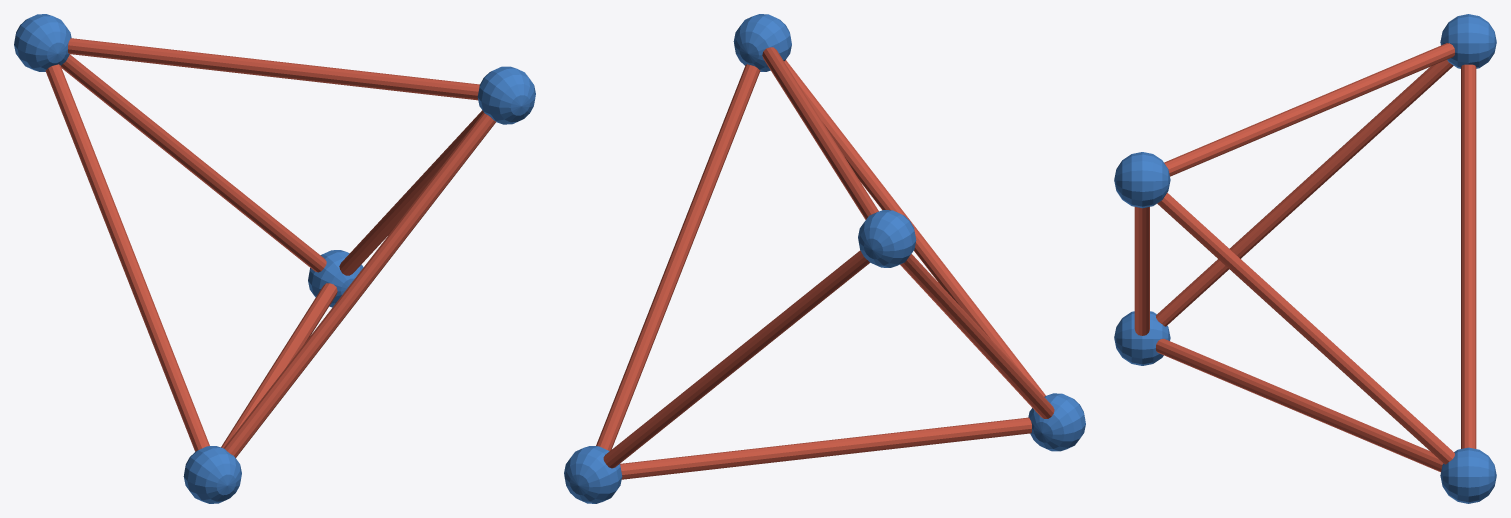
Rendered from zero_stage_3d.obj.
3 renders of one model, left to right at view 1: azimuth 30°, elevation 25°; view 2: azimuth 150°, elevation 25°; view 3: azimuth 270°, elevation 25°, orthographic. The views are drawn at different scales.
Parts seen in each view (by area): view 1: Mesh7 K4 Model, Mesh6 K4 Model, Mesh10 K4 Model, Mesh8 K4 Model, Mesh1 K4 Model, Mesh4 K4 Model, Mesh3 K4 Model, Mesh5 K4 Model, Mesh9 K4 Model, Mesh2 K4 Model; view 2: Mesh9 K4 Model, Mesh5 K4 Model, Mesh8 K4 Model, Mesh7 K4 Model, Mesh10 K4 Model, Mesh6 K4 Model, Mesh3 K4 Model, Mesh2 K4 Model, Mesh4 K4 Model, Mesh1 K4 Model; view 3: Mesh8 K4 Model, Mesh5 K4 Model, Mesh10 K4 Model, Mesh6 K4 Model, Mesh9 K4 Model, Mesh1 K4 Model, Mesh2 K4 Model, Mesh3 K4 Model, Mesh7 K4 Model, Mesh4 K4 Model.
Part boxes in pixels (bbox=[...]): Mesh7 K4 Model: bbox=[223, 112, 495, 457]; Mesh6 K4 Model: bbox=[68, 38, 479, 100]; Mesh10 K4 Model: bbox=[45, 64, 209, 451]; Mesh8 K4 Model: bbox=[61, 54, 326, 272]; Mesh1 K4 Model: bbox=[477, 66, 535, 124]; Mesh4 K4 Model: bbox=[183, 446, 241, 503]; Mesh3 K4 Model: bbox=[14, 14, 71, 71]; Mesh5 K4 Model: bbox=[339, 110, 483, 275]; Mesh9 K4 Model: bbox=[221, 283, 337, 448]; Mesh2 K4 Model: bbox=[308, 250, 363, 307]; Mesh9 K4 Model: bbox=[620, 417, 1031, 479]; Mesh5 K4 Model: bbox=[596, 64, 760, 450]; Mesh8 K4 Model: bbox=[603, 250, 869, 468]; Mesh7 K4 Model: bbox=[784, 60, 1045, 396]; Mesh10 K4 Model: bbox=[900, 254, 1054, 418]; Mesh6 K4 Model: bbox=[762, 47, 878, 219]; Mesh3 K4 Model: bbox=[858, 210, 916, 267]; Mesh2 K4 Model: bbox=[564, 446, 622, 503]; Mesh4 K4 Model: bbox=[1028, 393, 1085, 451]; Mesh1 K4 Model: bbox=[733, 14, 791, 71]; Mesh8 K4 Model: bbox=[1461, 64, 1476, 448]; Mesh5 K4 Model: bbox=[1157, 193, 1454, 464]; Mesh10 K4 Model: bbox=[1156, 60, 1453, 326]; Mesh6 K4 Model: bbox=[1164, 43, 1454, 176]; Mesh9 K4 Model: bbox=[1156, 338, 1443, 472]; Mesh1 K4 Model: bbox=[1114, 152, 1170, 208]; Mesh2 K4 Model: bbox=[1440, 447, 1496, 503]; Mesh3 K4 Model: bbox=[1440, 14, 1496, 68]; Mesh7 K4 Model: bbox=[1134, 207, 1149, 335]; Mesh4 K4 Model: bbox=[1114, 311, 1170, 365].
Size of the model in its own units: 75.7 by 75.7 by 75.7.
